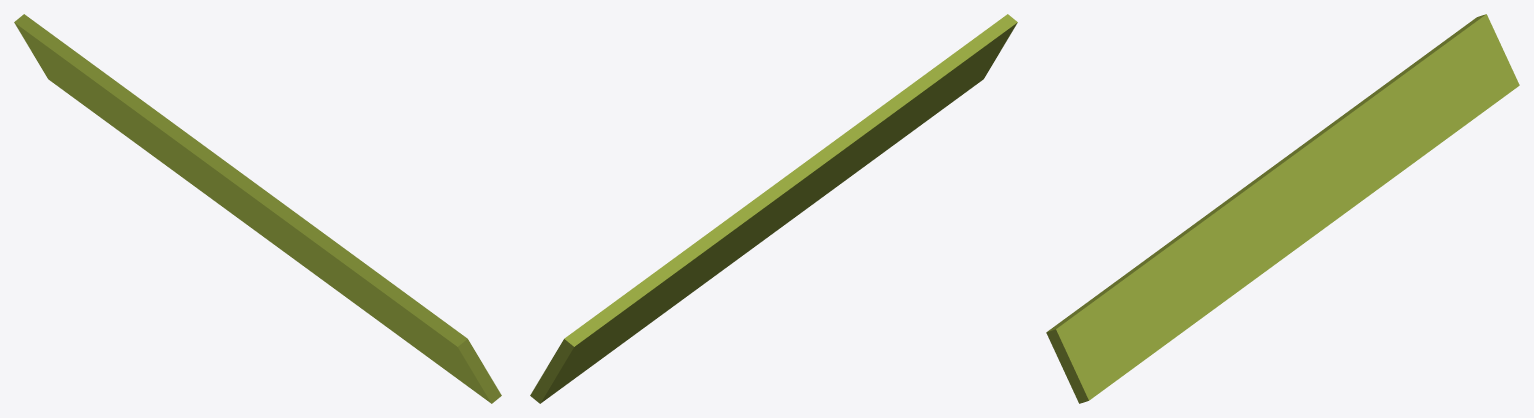
The model's file is Tarot_Card_Grate_Board.fbx.
3 views of the same model, side by side, from view 1: azimuth 30°, elevation 25°; view 2: azimuth 150°, elevation 25°; view 3: azimuth 330°, elevation 25° (orthographic). The views are drawn at different scales.
Visible parts, largest first — view 1: Tarot_Card_Grate_Board; view 2: Tarot_Card_Grate_Board; view 3: Tarot_Card_Grate_Board.
Boxes of the visible parts, <box> form: Tarot_Card_Grate_Board: <box>14,14,501,403</box>; Tarot_Card_Grate_Board: <box>530,14,1017,403</box>; Tarot_Card_Grate_Board: <box>1046,14,1519,403</box>.
Bounding box in the file's own units: 1.15 × 1.77 × 20.06.
